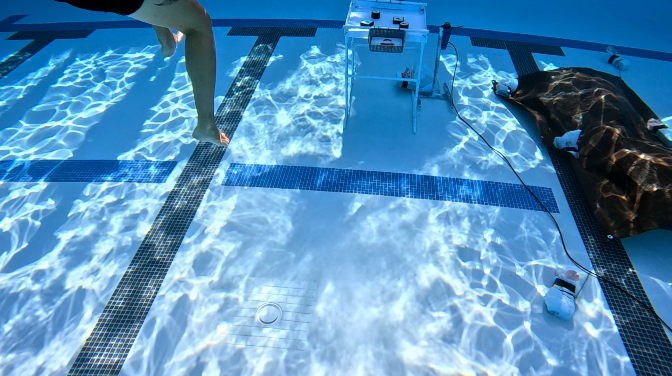sandbag: (492, 67, 671, 239)
